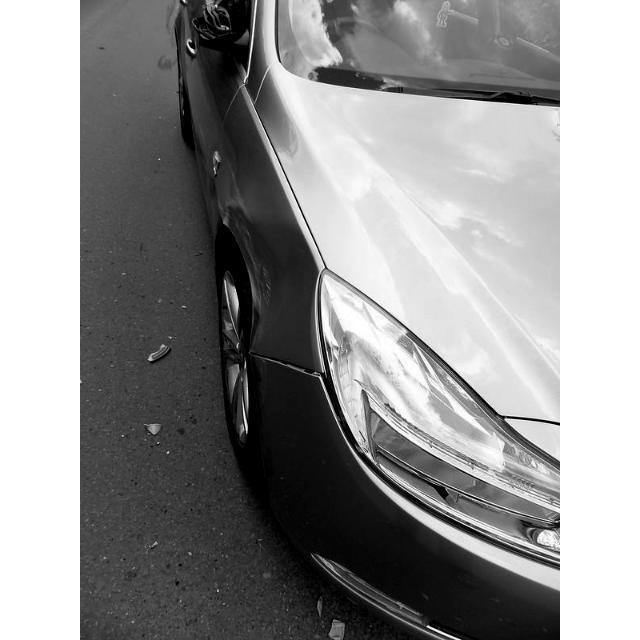fender-dent: (188, 98, 326, 376)
